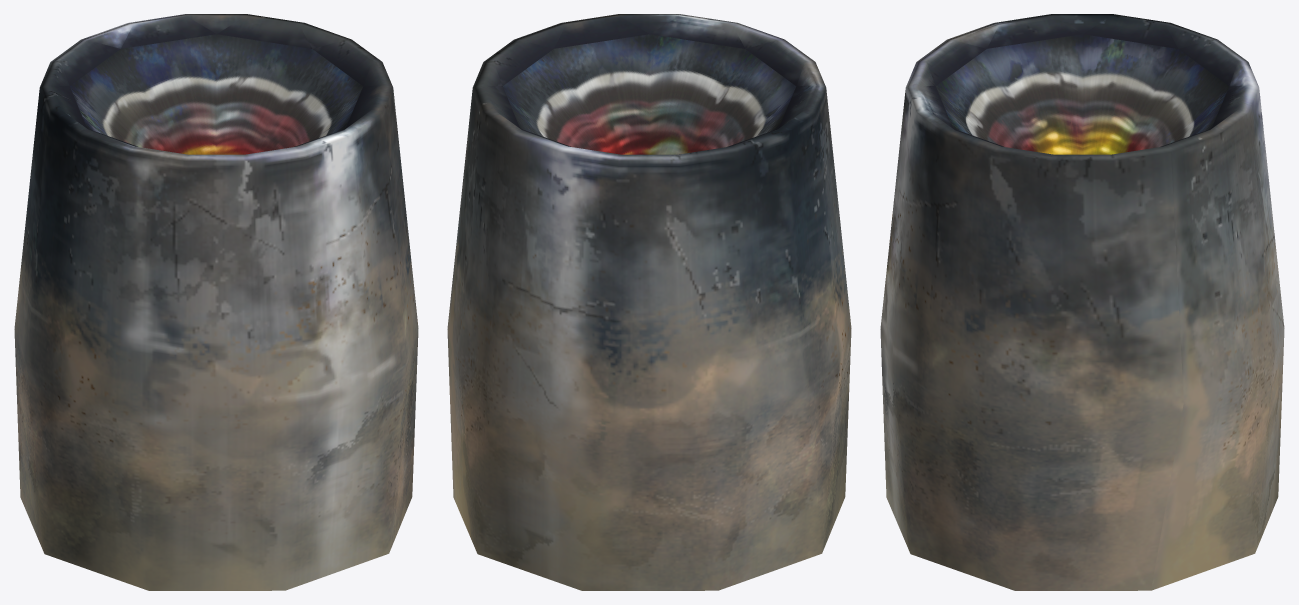
Rendered from Burner.fbx.
3 renders of one model, left to right at view 1: azimuth 30°, elevation 25°; view 2: azimuth 150°, elevation 25°; view 3: azimuth 270°, elevation 25°, orthographic.
Parts seen in each view (by area): view 1: Burner_Mesh; view 2: Burner_Mesh; view 3: Burner_Mesh.
Boxes of the visible parts, x1,y1,x2,y2 form: Burner_Mesh: [14, 14, 418, 590]; Burner_Mesh: [447, 14, 851, 590]; Burner_Mesh: [880, 14, 1284, 590].
Bounding box in the file's own units: 146 × 173 × 148.
Materials: 1 (1 with a texture image).
